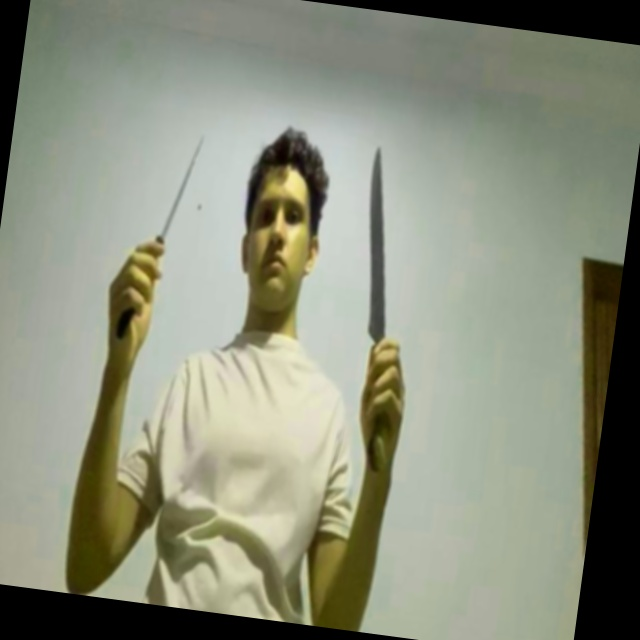Sharp-Object: (351, 146, 410, 339), (163, 128, 204, 238)
